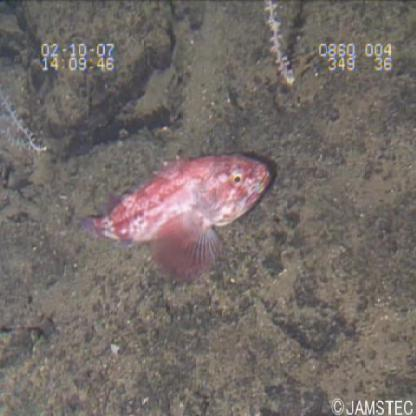Bio: (60, 147, 276, 298)
